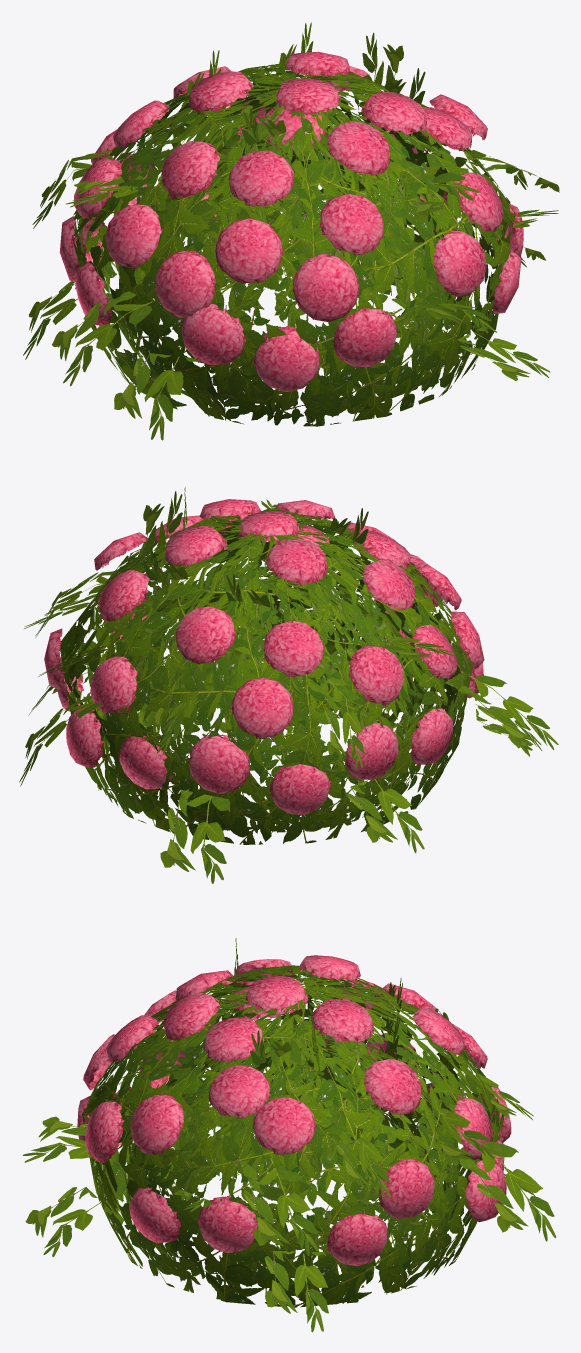
The model's file is NaturePlant03_2.FBX.
3 views of the same model, one above another, from view 1: azimuth 30°, elevation 25°; view 2: azimuth 150°, elevation 25°; view 3: azimuth 270°, elevation 25° (orthographic). The views are drawn at different scales.
Visible parts, largest first — view 1: NaturePlant03_2; view 2: NaturePlant03_2; view 3: NaturePlant03_2.
Part boxes in pixels (box(x1,y1,x2,y2)): NaturePlant03_2: box(23, 22, 559, 440); NaturePlant03_2: box(19, 487, 558, 883); NaturePlant03_2: box(22, 938, 556, 1332).
Bounding box in the file's own units: 0.504 × 0.2834 × 0.4821.
